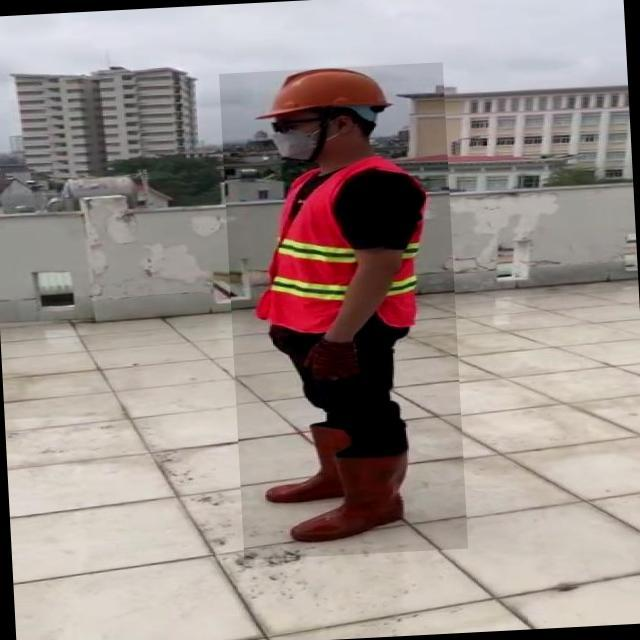Gloves: (301, 339, 361, 384)
Helmet: (257, 63, 394, 124)
Human: (219, 63, 468, 562)
Safety Boot: (287, 454, 414, 546), (262, 426, 358, 507)
Safety Vest: (245, 165, 433, 340)
